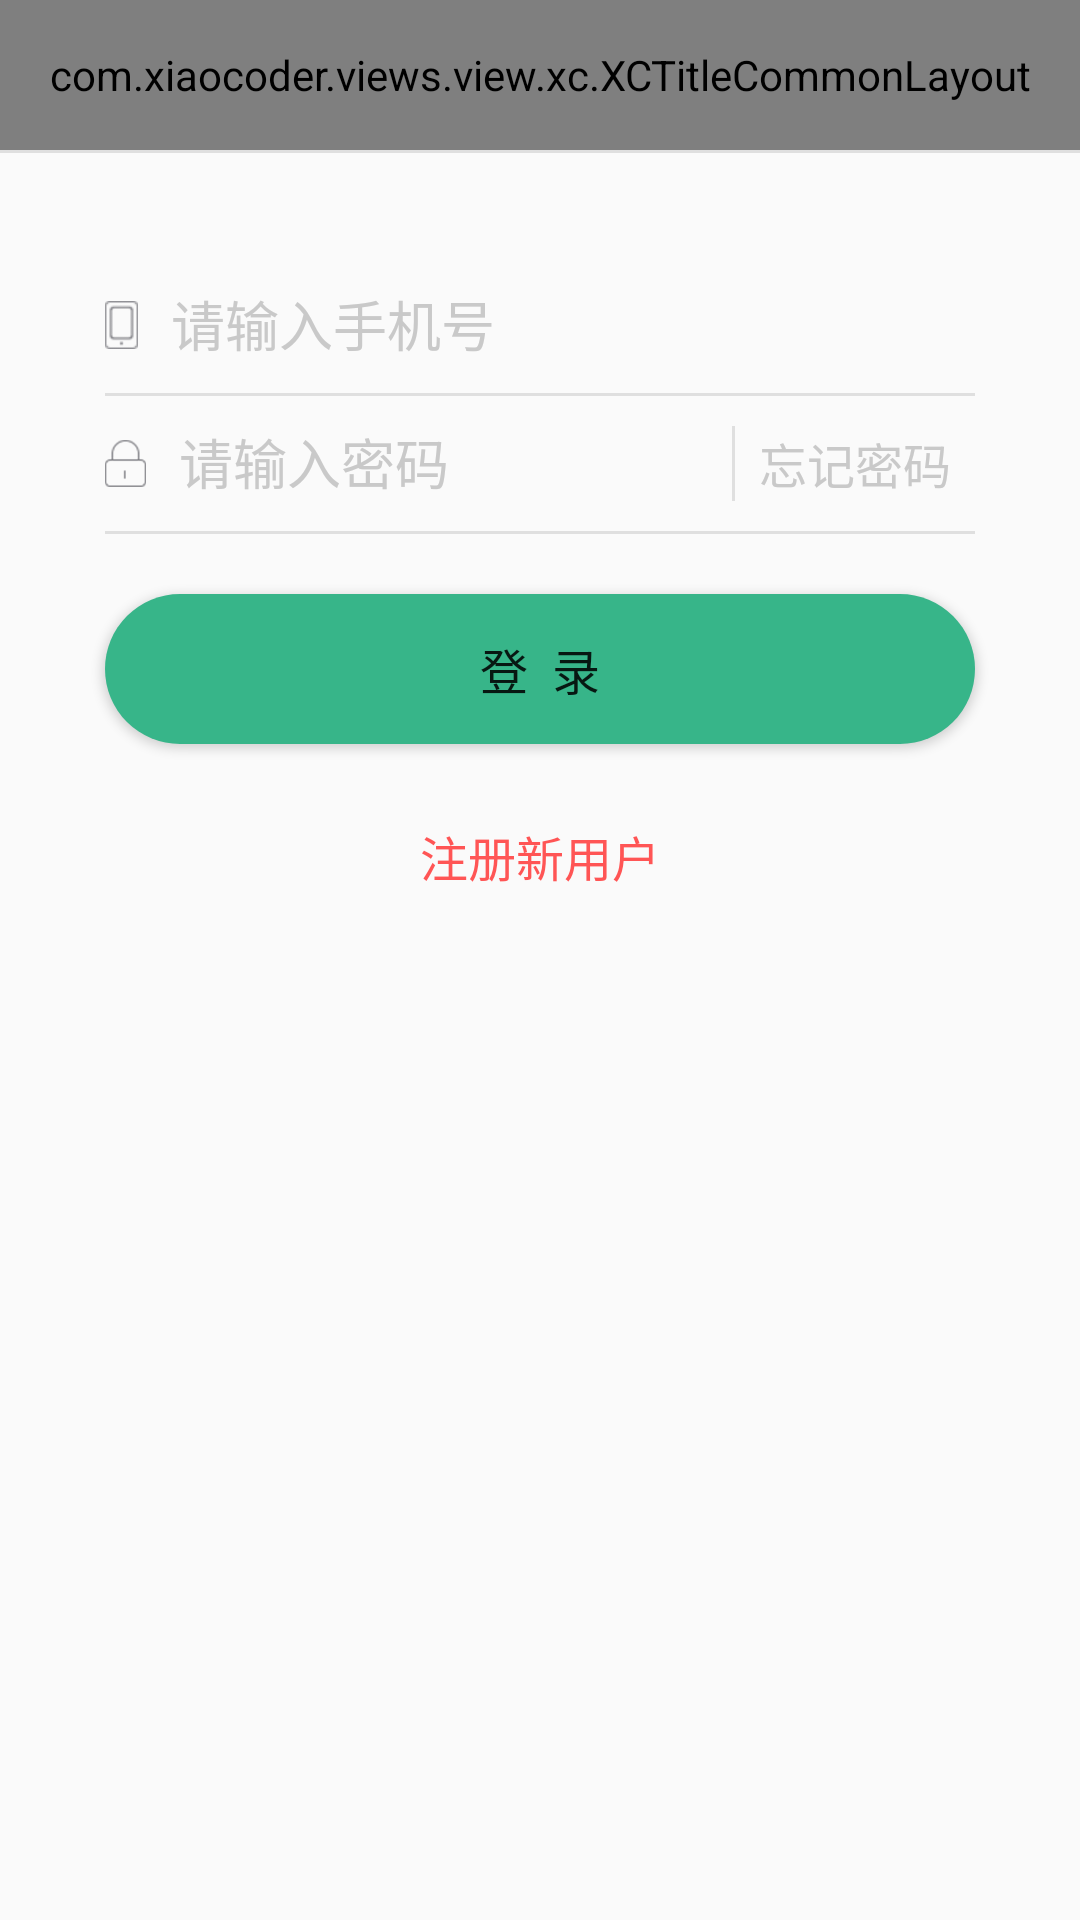

Icon bounding boxes for this 1080w x 1920h phone screenshot, format (x1, y1, x2, y2):
register mobile: (105, 301, 138, 349)
register pass: (105, 440, 146, 487)
